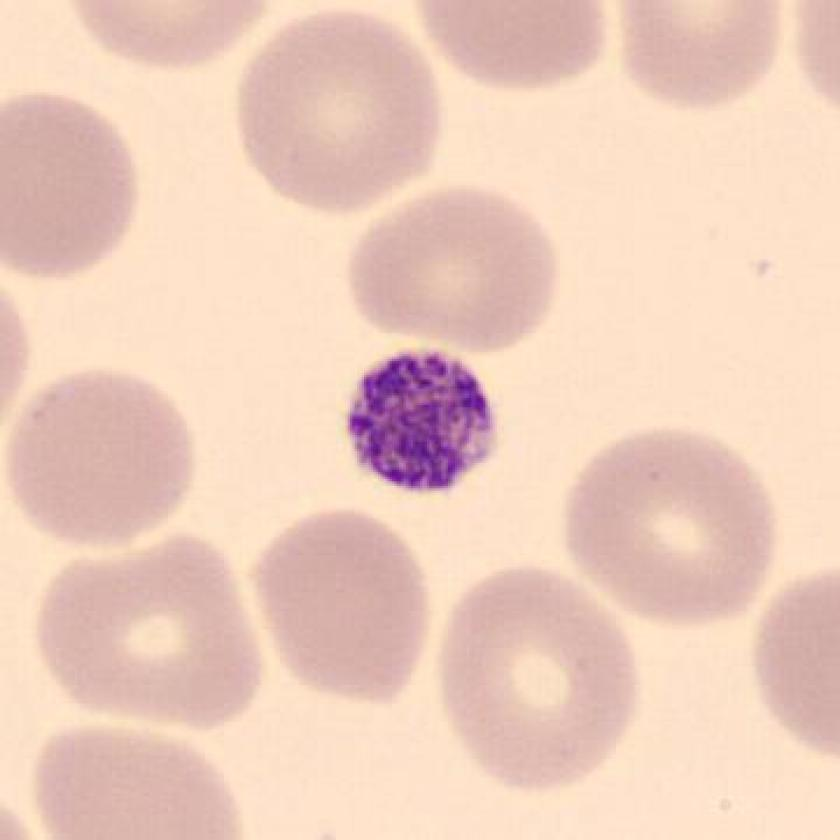platelets: (332, 339, 510, 503)
